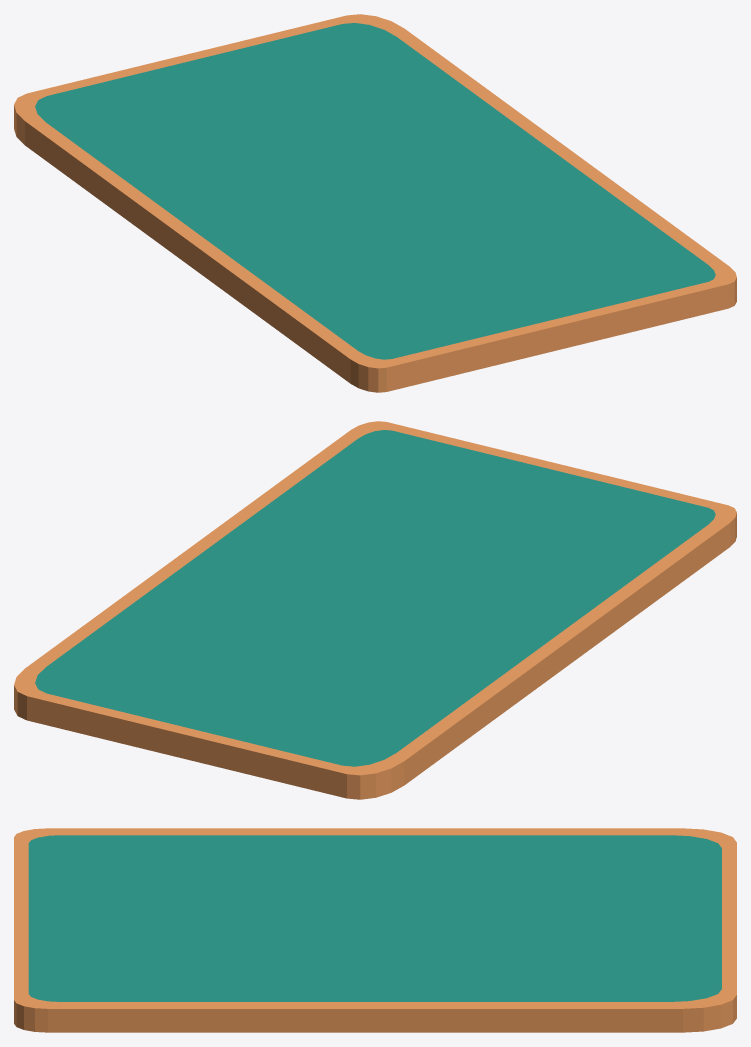
File: platRetangular.fbx
3 renders of one model, top to bottom at view 1: azimuth 30°, elevation 25°; view 2: azimuth 150°, elevation 25°; view 3: azimuth 270°, elevation 25°, orthographic. The views are drawn at different scales.
Parts seen in each view (by area): view 1: platRetangular; view 2: platRetangular; view 3: platRetangular.
Part boxes in pixels (box(x1,y1,x2,y2)): platRetangular: box(14, 14, 736, 392); platRetangular: box(14, 421, 736, 799); platRetangular: box(14, 828, 736, 1032).
Size of the model in its own units: 310 by 30.79 by 525.
